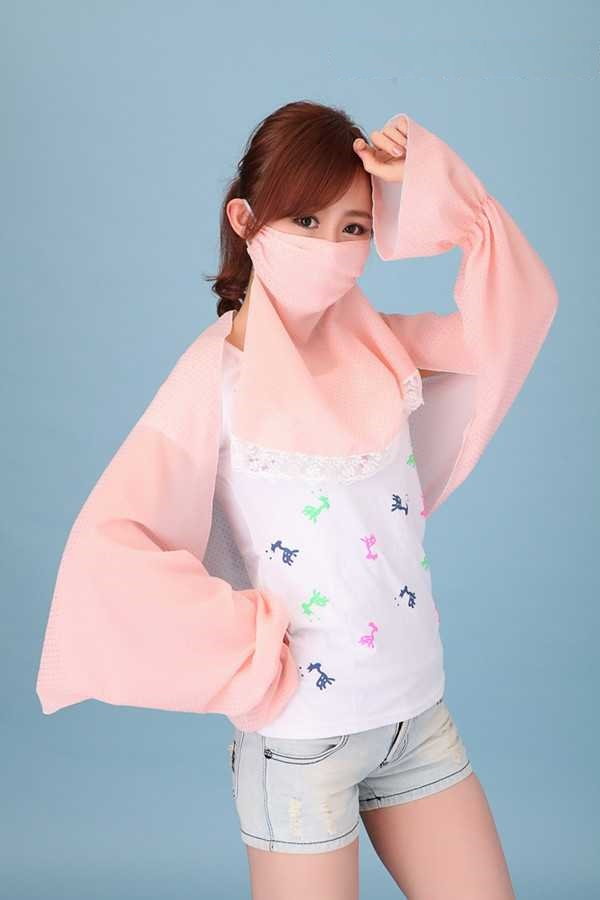face_mask: (257, 148, 370, 317)
